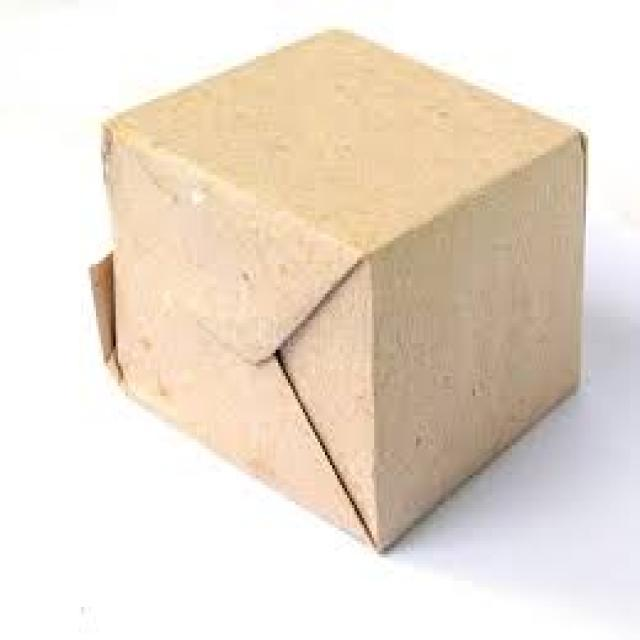Cardboard: (89, 25, 583, 556)
